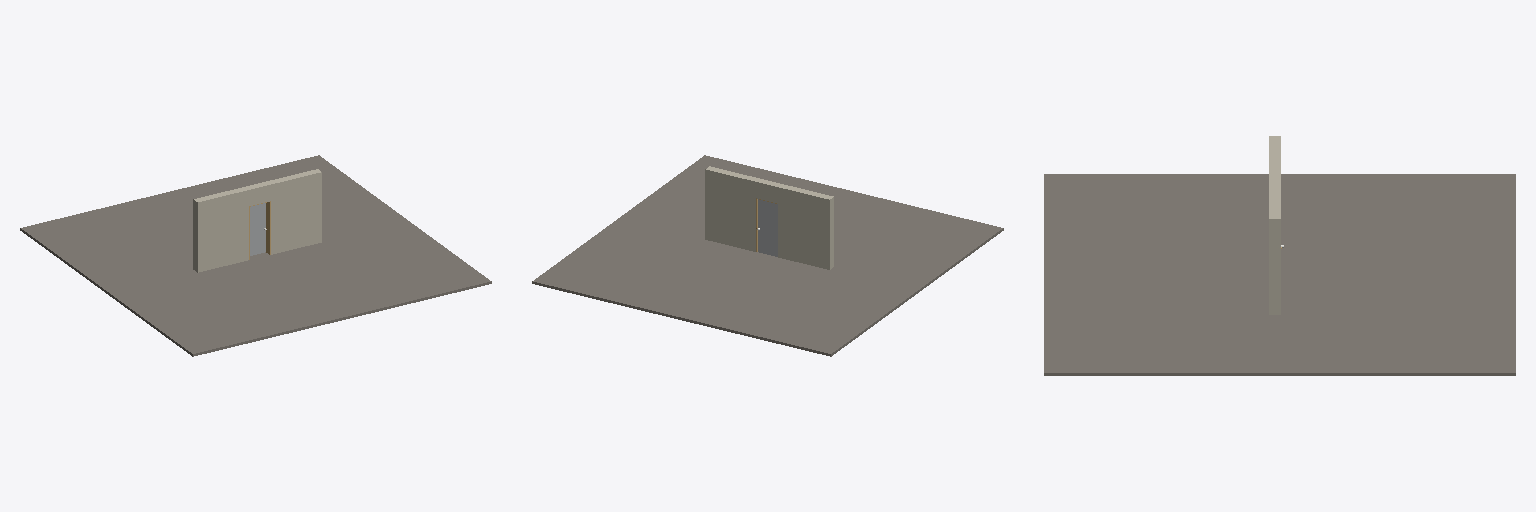
URDF robot description (db0938_swing_single_minimal):
<?xml version="1.0" ?>
<robot xmlns:doorbench="https://github.com/adamraudonis/DoorBench/schema/urdf-ext" name="db0938_swing_single_minimal">
  <link name="world_env">
    <visual name="floor_vis">
      <origin xyz="0 0 -0.05" rpy="0 0 0"/>
      <geometry>
        <box size="12 12 0.1"/>
      </geometry>
      <material name="mat_floor"/>
    </visual>
    <collision name="floor_col">
      <origin xyz="0 0 -0.05" rpy="0 0 0"/>
      <geometry>
        <box size="12 12 0.1"/>
      </geometry>
    </collision>
    <visual name="wall_left_vis">
      <origin xyz="-1.4645 -0.1255 1.35" rpy="0 0 0"/>
      <geometry>
        <box size="2.071 0.3 2.7"/>
      </geometry>
      <material name="mat_wall"/>
    </visual>
    <collision name="wall_left_col">
      <origin xyz="-1.4645 -0.1255 1.35" rpy="0 0 0"/>
      <geometry>
        <box size="2.071 0.3 2.7"/>
      </geometry>
    </collision>
    <visual name="wall_right_vis">
      <origin xyz="1.4795 -0.1255 1.35" rpy="0 0 0"/>
      <geometry>
        <box size="2.041 0.3 2.7"/>
      </geometry>
      <material name="mat_wall"/>
    </visual>
    <collision name="wall_right_col">
      <origin xyz="1.4795 -0.1255 1.35" rpy="0 0 0"/>
      <geometry>
        <box size="2.041 0.3 2.7"/>
      </geometry>
    </collision>
    <visual name="wall_header_vis">
      <origin xyz="0.015 -0.1255 2.397" rpy="0 0 0"/>
      <geometry>
        <box size="0.888 0.3 0.606"/>
      </geometry>
      <material name="mat_wall"/>
    </visual>
    <collision name="wall_header_col">
      <origin xyz="0.015 -0.1255 2.397" rpy="0 0 0"/>
      <geometry>
        <box size="0.888 0.3 0.606"/>
      </geometry>
    </collision>
    <visual name="jamb_hinge_vis">
      <origin xyz="-0.4195 -0.1255 1.0225" rpy="0 0 0"/>
      <geometry>
        <box size="0.019 0.3 2.045"/>
      </geometry>
      <material name="mat_frame"/>
    </visual>
    <collision name="jamb_hinge_col">
      <origin xyz="-0.4195 -0.1255 1.0225" rpy="0 0 0"/>
      <geometry>
        <box size="0.019 0.3 2.045"/>
      </geometry>
    </collision>
    <visual name="strike_914_wall_n_vis">
      <origin xyz="0.4345 -0.141675 0.914" rpy="0 0 0"/>
      <geometry>
        <box size="0.049 0.26765 0.0334"/>
      </geometry>
      <material name="mat_frame"/>
    </visual>
    <collision name="strike_914_wall_n_col">
      <origin xyz="0.4345 -0.141675 0.914" rpy="0 0 0"/>
      <geometry>
        <box size="0.049 0.26765 0.0334"/>
      </geometry>
    </collision>
    <visual name="strike_914_wall_p_vis">
      <origin xyz="0.4345 0.01585 0.914" rpy="0 0 0"/>
      <geometry>
        <box size="0.049 0.016 0.0334"/>
      </geometry>
      <material name="mat_frame"/>
    </visual>
    <collision name="strike_914_wall_p_col">
      <origin xyz="0.4345 0.01585 0.914" rpy="0 0 0"/>
      <geometry>
        <box size="0.049 0.016 0.0334"/>
      </geometry>
    </collision>
    <visual name="strike_914_ramp_vis">
      <origin xyz="0.439136 0.028673 0.914" rpy="0 0 -0.428384"/>
      <geometry>
        <box size="0.049 0.03298 0.0334"/>
      </geometry>
      <material name="mat_frame"/>
    </visual>
    <collision name="strike_914_ramp_col">
      <origin xyz="0.439136 0.028673 0.914" rpy="0 0 -0.428384"/>
      <geometry>
        <box size="0.049 0.03298 0.0334"/>
      </geometry>
    </collision>
    <visual name="strike_914_back_vis">
      <origin xyz="0.44285 0 0.914" rpy="0 0 0"/>
      <geometry>
        <box size="0.0323 0.0157 0.0334"/>
      </geometry>
      <material name="mat_frame"/>
    </visual>
    <collision name="strike_914_back_col">
      <origin xyz="0.44285 0 0.914" rpy="0 0 0"/>
      <geometry>
        <box size="0.0323 0.0157 0.0334"/>
      </geometry>
    </collision>
    <visual name="jamb_strike_0_vis">
      <origin xyz="0.4345 -0.1255 0.44865" rpy="0 0 0"/>
      <geometry>
        <box size="0.049 0.3 0.8973"/>
      </geometry>
      <material name="mat_frame"/>
    </visual>
    <collision name="jamb_strike_0_col">
      <origin xyz="0.4345 -0.1255 0.44865" rpy="0 0 0"/>
      <geometry>
        <box size="0.049 0.3 0.8973"/>
      </geometry>
    </collision>
    <visual name="jamb_strike_1_vis">
      <origin xyz="0.4345 -0.1255 1.48785" rpy="0 0 0"/>
      <geometry>
        <box size="0.049 0.3 1.1143"/>
      </geometry>
      <material name="mat_frame"/>
    </visual>
    <collision name="jamb_strike_1_col">
      <origin xyz="0.4345 -0.1255 1.48785" rpy="0 0 0"/>
      <geometry>
        <box size="0.049 0.3 1.1143"/>
      </geometry>
    </collision>
    <visual name="jamb_head_vis">
      <origin xyz="0.015 -0.1255 2.0545" rpy="0 0 0"/>
      <geometry>
        <box size="0.888 0.3 0.019"/>
      </geometry>
      <material name="mat_frame"/>
    </visual>
    <collision name="jamb_head_col">
      <origin xyz="0.015 -0.1255 2.0545" rpy="0 0 0"/>
      <geometry>
        <box size="0.888 0.3 0.019"/>
      </geometry>
    </collision>
    <visual name="head_stud_vis">
      <origin xyz="0.015 -0.1255 2.079" rpy="0 0 0"/>
      <geometry>
        <box size="0.888 0.3 0.03"/>
      </geometry>
      <material name="mat_wall"/>
    </visual>
    <collision name="head_stud_col">
      <origin xyz="0.015 -0.1255 2.079" rpy="0 0 0"/>
      <geometry>
        <box size="0.888 0.3 0.03"/>
      </geometry>
    </collision>
    <visual name="stop_hinge_vis">
      <origin xyz="-0.4045 -0.034 1.0225" rpy="0 0 0"/>
      <geometry>
        <box size="0.011 0.032 2.045"/>
      </geometry>
      <material name="mat_frame"/>
    </visual>
    <collision name="stop_hinge_col">
      <origin xyz="-0.4045 -0.034 1.0225" rpy="0 0 0"/>
      <geometry>
        <box size="0.011 0.032 2.045"/>
      </geometry>
    </collision>
    <visual name="stop_strike_vis">
      <origin xyz="0.4045 -0.034 1.0225" rpy="0 0 0"/>
      <geometry>
        <box size="0.011 0.032 2.045"/>
      </geometry>
      <material name="mat_frame"/>
    </visual>
    <collision name="stop_strike_col">
      <origin xyz="0.4045 -0.034 1.0225" rpy="0 0 0"/>
      <geometry>
        <box size="0.011 0.032 2.045"/>
      </geometry>
    </collision>
    <visual name="stop_head_vis">
      <origin xyz="0 -0.034 2.0395" rpy="0 0 0"/>
      <geometry>
        <box size="0.82 0.032 0.011"/>
      </geometry>
      <material name="mat_frame"/>
    </visual>
    <collision name="stop_head_col">
      <origin xyz="0 -0.034 2.0395" rpy="0 0 0"/>
      <geometry>
        <box size="0.82 0.032 0.011"/>
      </geometry>
    </collision>
  </link>
  <link name="leaf">
    <inertial>
      <origin xyz="0.4065 -0.0245 1.025" rpy="0 0 0"/>
      <mass value="11.897654"/>
      <inertia ixx="4.095022805" ixy="0" ixz="0" iyy="4.74913996" iyz="0" izz="0.656546259"/>
    </inertial>
    <visual name="leaf_slab_vis">
      <origin xyz="0.4065 -0.0245 1.025" rpy="0 0 0"/>
      <geometry>
        <box size="0.813 0.035 2.032"/>
      </geometry>
      <material name="mat_leaf"/>
    </visual>
    <collision name="leaf_slab_col">
      <origin xyz="0.4065 -0.0245 1.025" rpy="0 0 0"/>
      <geometry>
        <box size="0.813 0.035 2.032"/>
      </geometry>
    </collision>
  </link>
  <link name="leaf_handle">
    <inertial>
      <origin xyz="0 0 0" rpy="0 0 0"/>
      <mass value="3.52987"/>
      <inertia ixx="0.012900817" ixy="0" ixz="0" iyy="0.003578811" iyz="0" izz="0.012900817"/>
    </inertial>
    <visual name="leaf_handle_knob_n_vis">
      <origin xyz="0 -0.0175 0" rpy="1.570796 0 0"/>
      <geometry>
        <mesh filename="../../hardware/knob_d6523d5571.obj"/>
      </geometry>
      <material name="mat_op_pvc"/>
    </visual>
    <visual name="leaf_handle_knob_col_n_vis">
      <origin xyz="0 -0.064 0" rpy="0 0 0"/>
      <geometry>
        <sphere radius="0.0243"/>
      </geometry>
      <material name="mat_op_pvc"/>
    </visual>
    <collision name="leaf_handle_knob_col_n_col">
      <origin xyz="0 -0.064 0" rpy="0 0 0"/>
      <geometry>
        <sphere radius="0.0243"/>
      </geometry>
    </collision>
    <collision name="leaf_handle_knob_neck_n_col">
      <origin xyz="0 -0.0295 0" rpy="-1.570796 0 0"/>
      <geometry>
        <cylinder radius="0.011" length="0.024"/>
      </geometry>
    </collision>
    <visual name="leaf_handle_knob_p_vis">
      <origin xyz="0 0.0175 0" rpy="-1.570796 0 0"/>
      <geometry>
        <mesh filename="../../hardware/knob_d6523d5571.obj"/>
      </geometry>
      <material name="mat_op_pvc"/>
    </visual>
    <visual name="leaf_handle_knob_col_p_vis">
      <origin xyz="0 0.064 0" rpy="0 0 0"/>
      <geometry>
        <sphere radius="0.0243"/>
      </geometry>
      <material name="mat_op_pvc"/>
    </visual>
    <collision name="leaf_handle_knob_col_p_col">
      <origin xyz="0 0.064 0" rpy="0 0 0"/>
      <geometry>
        <sphere radius="0.0243"/>
      </geometry>
    </collision>
    <collision name="leaf_handle_knob_neck_p_col">
      <origin xyz="0 0.0295 0" rpy="-1.570796 0 0"/>
      <geometry>
        <cylinder radius="0.011" length="0.024"/>
      </geometry>
    </collision>
  </link>
  <link name="leaf_latch_bolt">
    <inertial>
      <origin xyz="-0.00865 0 0" rpy="0 0 0"/>
      <mass value="0.041419"/>
      <inertia ixx="0.000000798" ixy="0" ixz="0" iyy="0.000005598" iyz="0" izz="0.000005598"/>
    </inertial>
    <visual name="leaf_latch_bolt_capsule_vis">
      <origin xyz="-0.00865 0 0" rpy="0 1.570796 0"/>
      <geometry>
        <cylinder radius="0.00635" length="0.03"/>
      </geometry>
      <material name="mat_bolt"/>
    </visual>
    <collision name="leaf_latch_bolt_capsule_col">
      <origin xyz="-0.00865 0 0" rpy="0 1.570796 0"/>
      <geometry>
        <cylinder radius="0.00635" length="0.03"/>
      </geometry>
    </collision>
  </link>
  <joint name="leaf_hinge" type="revolute">
    <origin xyz="-0.407 0.0245 0" rpy="0 0 0"/>
    <parent link="world_env"/>
    <child link="leaf"/>
    <axis xyz="0 0 1"/>
    <limit lower="0" upper="1.570796" effort="2000" velocity="10"/>
    <dynamics damping="0.210326" friction="0.162645"/>
    <doorbench:closer damping_closing="0" damping_opening="0" backcheck_angle="0" backcheck_damping="0"/>
  </joint>
  <joint name="leaf_handle_hinge" type="revolute">
    <origin xyz="0.753 -0.0245 0.914" rpy="0 0 0"/>
    <parent link="leaf"/>
    <child link="leaf_handle"/>
    <axis xyz="0 -1 0"/>
    <limit lower="0" upper="0.87" effort="2000" velocity="10"/>
    <dynamics damping="0.164801" friction="0.039"/>
    <doorbench:spring stiffness="0.5" springref="-0.5" note="tau = -stiffness*(q - springref); not native URDF"/>
  </joint>
  <joint name="leaf_latch_bolt_slide" type="prismatic">
    <origin xyz="0.813 -0.0245 0.914" rpy="0 0 0"/>
    <parent link="leaf"/>
    <child link="leaf_latch_bolt"/>
    <axis xyz="-1 0 0"/>
    <limit lower="0" upper="0.0127" effort="5000" velocity="10"/>
    <dynamics damping="2" friction="0.3"/>
    <doorbench:spring stiffness="300" springref="-0.008333" note="tau = -stiffness*(q - springref); not native URDF"/>
    <mimic joint="leaf_handle_hinge" multiplier="0.015679" offset="0"/>
    <doorbench:coupling one_sided="true" note="MJCF uses a one-sided tendon (bolt may retract further, e.g. riding over the strike lip); mimic is bilateral"/>
  </joint>
  <material name="mat_bolt">
    <color rgba="0.85 0.66 0.3 1"/>
  </material>
  <material name="mat_floor">
    <color rgba="0.55 0.53 0.5 1"/>
  </material>
  <material name="mat_frame">
    <color rgba="0.82 0.7 0.5 1"/>
  </material>
  <material name="mat_leaf">
    <color rgba="0.72 0.73 0.74 1"/>
  </material>
  <material name="mat_op_pvc">
    <color rgba="0.92 0.92 0.9 1"/>
  </material>
  <material name="mat_wall">
    <color rgba="0.78 0.76 0.7 1"/>
  </material>
</robot>

--- Render facts (derived) ---
Views: 3 orthographic renders of the robot side by side, from view 1: azimuth 30°, elevation 25°; view 2: azimuth 150°, elevation 25°; view 3: azimuth 270°, elevation 25°.
Model db0938_swing_single_minimal with 4 links and 3 joints (2 revolute, 1 prismatic), rooted at world_env, posed all joints at 0.
Links seen in each view (by area): view 1: world_env, leaf; view 2: world_env, leaf; view 3: world_env.
Link boxes in pixels (box(x1,y1,x2,y2)): world_env: box(20, 155, 491, 356); leaf: box(250, 203, 265, 255); world_env: box(532, 155, 1003, 356); leaf: box(758, 199, 777, 256); world_env: box(1044, 136, 1515, 375).
Bounding box of the posed robot: 12 × 12 × 2.8 m (x, y, z).
2 mesh visuals loaded from 1 distinct referenced files (1 OBJ).
